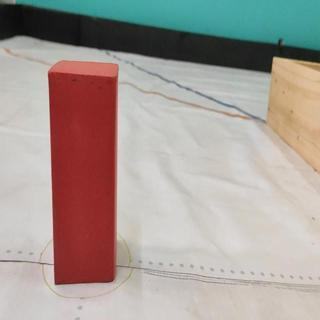redbox: (49, 59, 119, 285)
